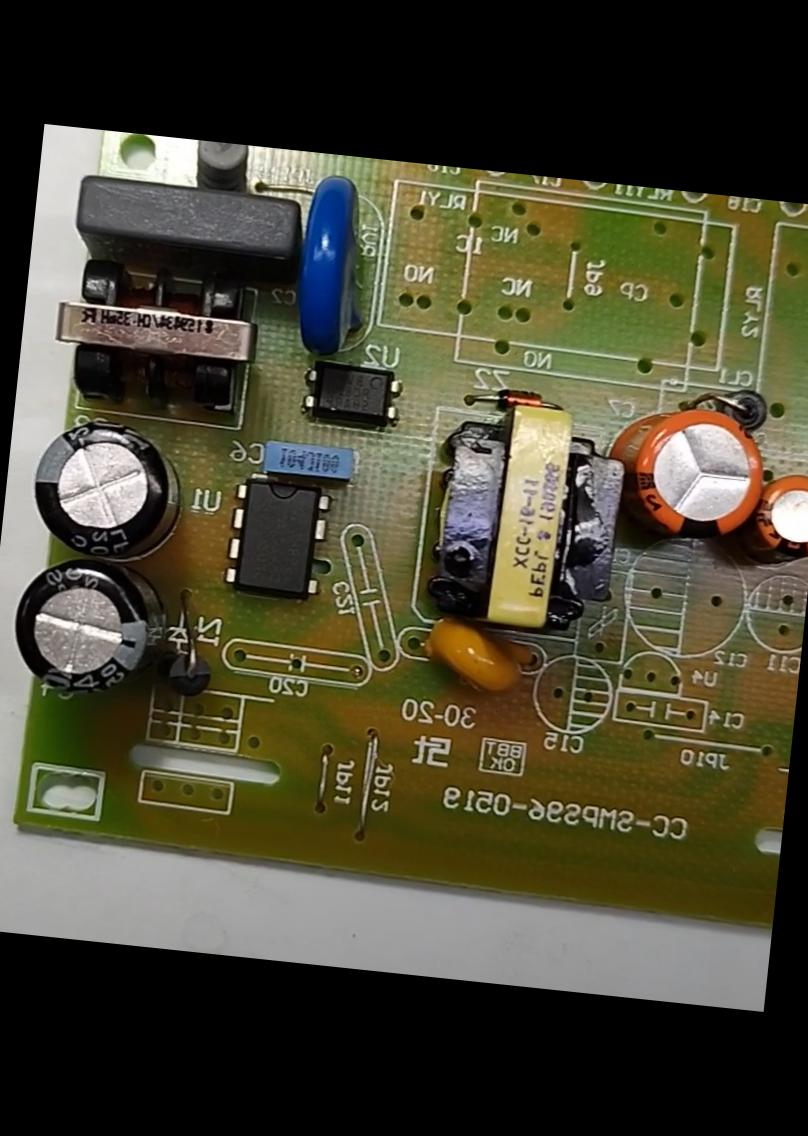Cap1: (604, 386, 778, 554)
Cap2: (748, 468, 807, 568)
Cap3: (23, 409, 196, 570)
Cap4: (3, 550, 180, 711)
MOSFET: (215, 461, 342, 614)
Mov: (271, 163, 383, 370)
Resistor: (187, 140, 261, 188)
Transformer: (414, 385, 636, 656), (38, 245, 270, 430)
